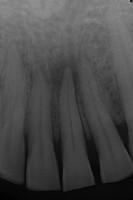Furcation Involvement: (38, 54, 82, 101)
